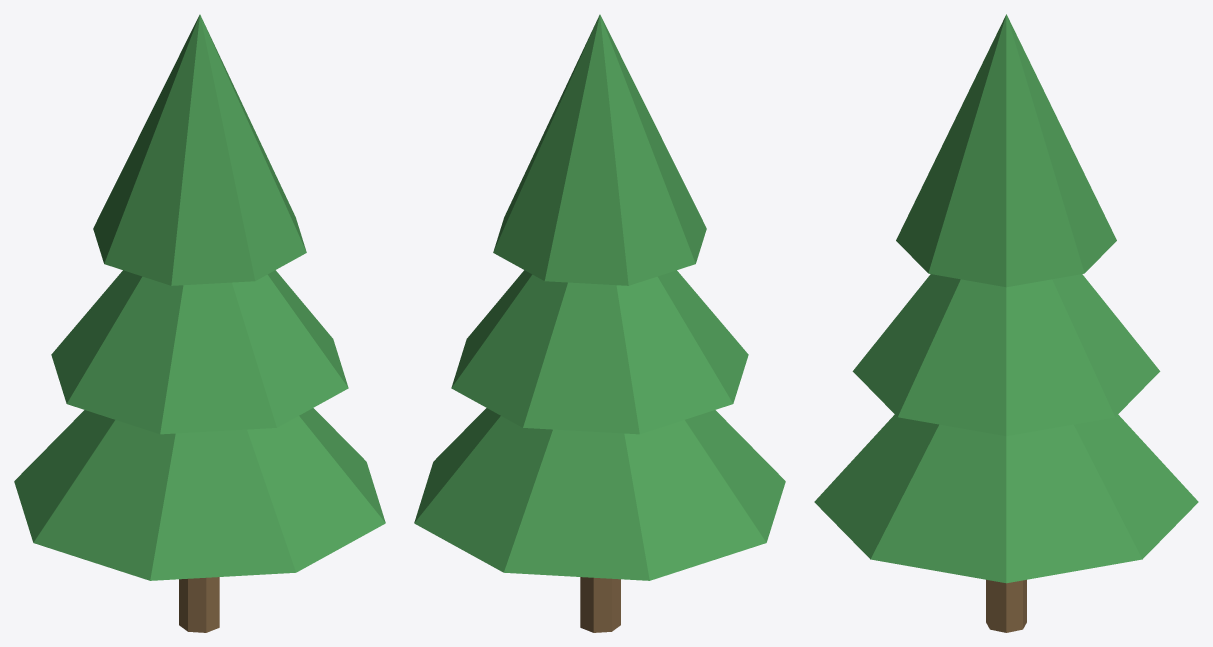
Rendered from tree.glb.
The picture shows the model from 3 angles, left to right: view 1: azimuth 30°, elevation 25°; view 2: azimuth 150°, elevation 25°; view 3: azimuth 270°, elevation 25°; orthographic projection.
Parts seen in each view (by area): view 1: tree; view 2: tree; view 3: tree.
Part boxes in pixels (x1=…): tree: x1=14, y1=14, x2=385, y2=632; tree: x1=414, y1=14, x2=785, y2=632; tree: x1=814, y1=14, x2=1198, y2=632.
Bounding box in the file's own units: 4 × 7 × 4.
